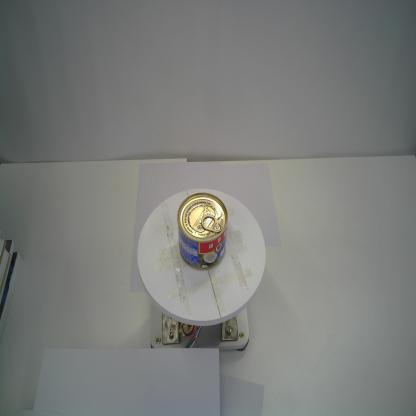Canned Food: (176, 191, 228, 274)
